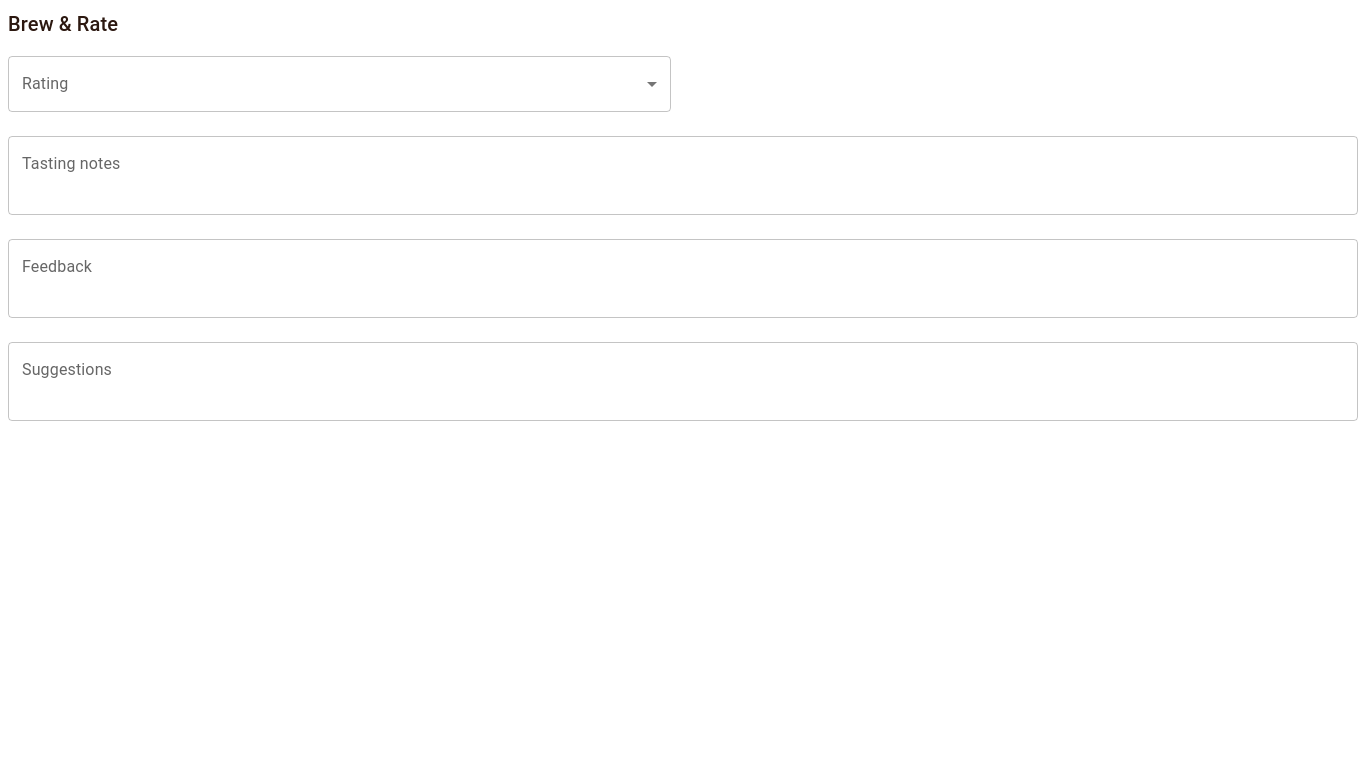
BrewFeedback › offers ratings from 1.0 to 10.0 in 0.5 steps plus a no-rating option
Click the dropdown named "Rating": (340, 84) [8,56,671,112]
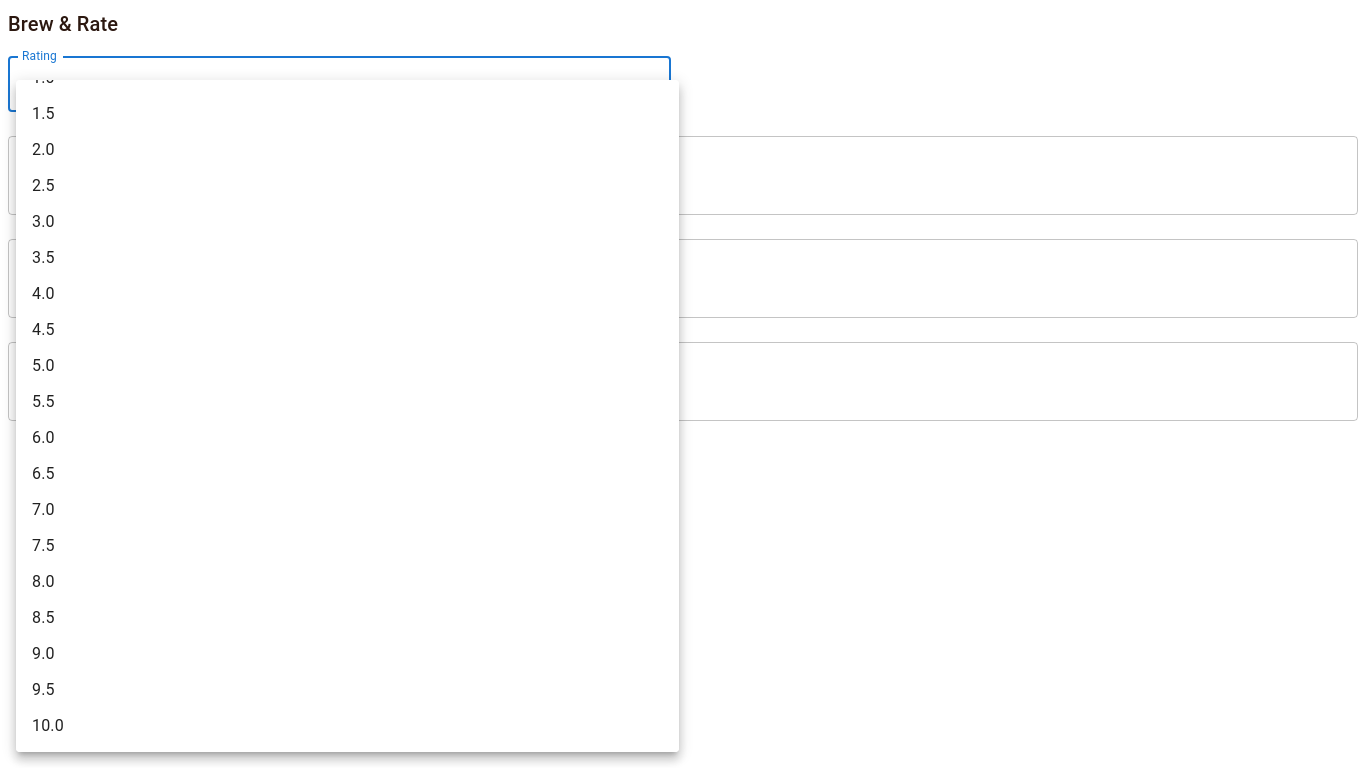
Expected: the option "7.5" is shown, [32,536,55,555]
Expected: the option "10.0" is shown, [32,716,64,735]
